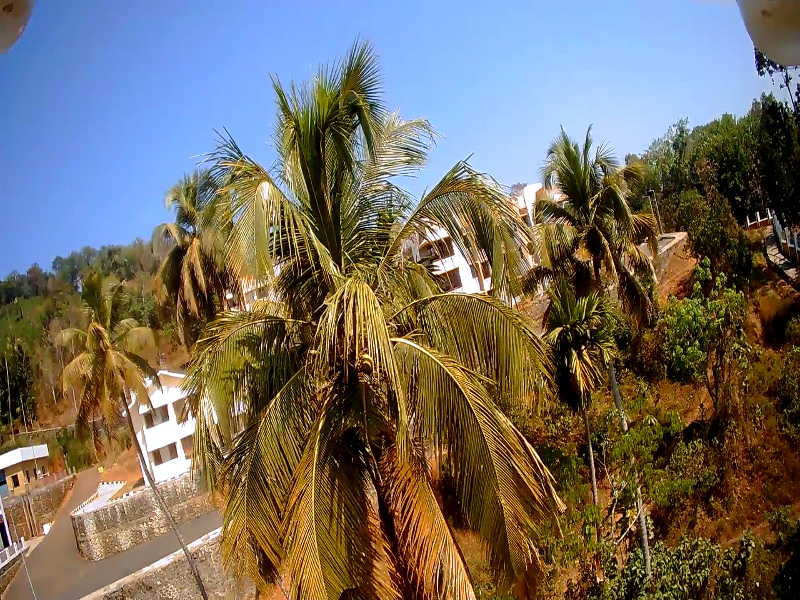coconut: (355, 355, 375, 373)
